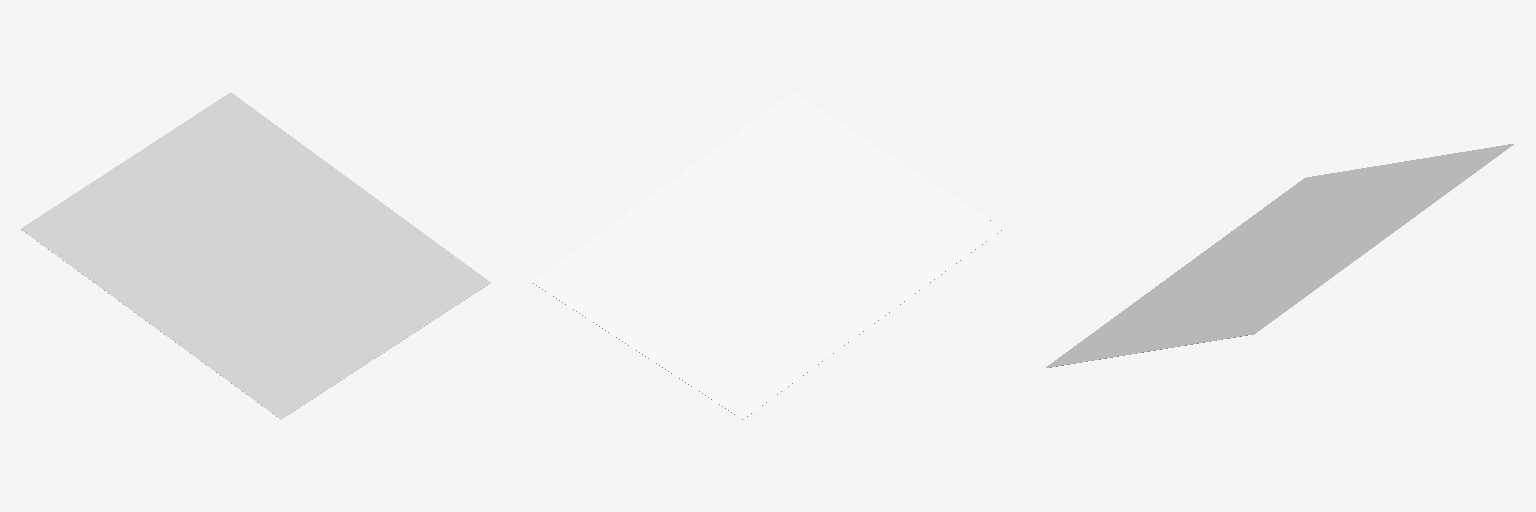
The robot description file, URDF, robot "ramp_robot":
<?xml version="1.0" ?>
<robot name="ramp_robot">
  
  <link name="world">
  </link>
  
  <link name="ramp">
    <contact>
      <lateral_friction value="1.0"/>
      <rolling_friction value="0.0"/>
      <contact_cfm value="0.0"/>
      <contact_erp value="1.0"/>
    </contact>
    <inertial>
      <origin rpy='0 1.2 0' xyz='0 0 0'/>
       <mass value="100.0"/>
       <inertia ixx="1" ixy="0" ixz="0" iyy="1" iyz="0" izz="1"/>
    </inertial>
    <visual>
      <origin rpy='0 1.2 0' xyz='0 0 0'/>
      <geometry>
				<box size="0.05 100 50"/>
      </geometry>
       <material name="white">
        <color rgba="1 1 1 1"/>
      </material>
    </visual>
    <collision>
      <origin rpy='0 1.2 0' xyz='0 0 0'/>
      <geometry>
	 	    <box size="0.05 100 50"/>
      </geometry>
    </collision>
  </link>
  
  <joint name="ramp_to_plane" type="fixed">
    <parent link="world"/>
    <child link="ramp"/>
    <origin xyz="0 0 0"/>
  </joint>

</robot>

--- What the picture shows (computed from the rendered views, not written in the file) ---
The picture shows the robot from 3 angles, left to right: view 1: azimuth 30°, elevation 25°; view 2: azimuth 150°, elevation 25°; view 3: azimuth 330°, elevation 25°; orthographic projection.
Robot: ramp_robot — 2 links, 1 joints (1 fixed); root link world; default pose: all joints at 0.
Visible links, largest first — view 1: ramp; view 2: ramp; view 3: ramp.
Boxes of the visible links, x1=… form: ramp: x1=21, y1=92, x2=490, y2=419; ramp: x1=533, y1=92, x2=1002, y2=419; ramp: x1=1046, y1=144, x2=1513, y2=367.
Size in the robot's own frame: 46.62 by 100 by 18.16 metres.
Geometry: primitives only (box / cylinder / sphere), no mesh files.